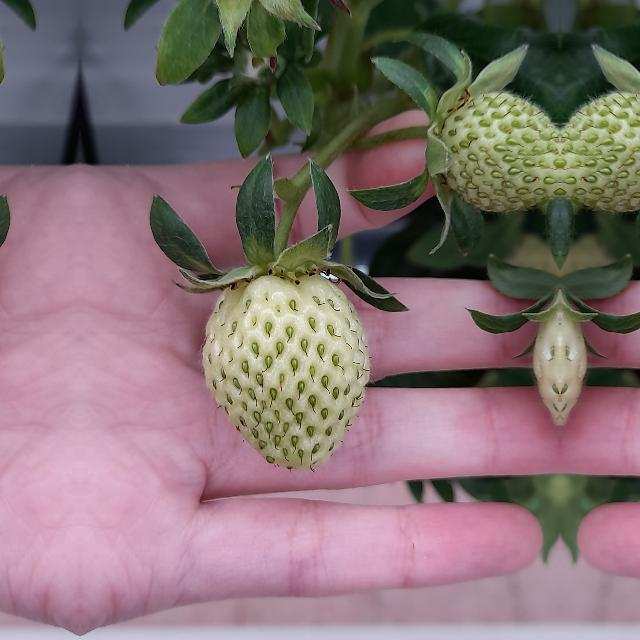Health_25: (202, 274, 370, 470), (430, 82, 560, 214), (560, 82, 640, 214)
